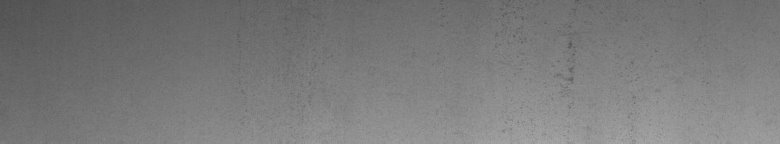ib: (496, 13, 584, 84)
